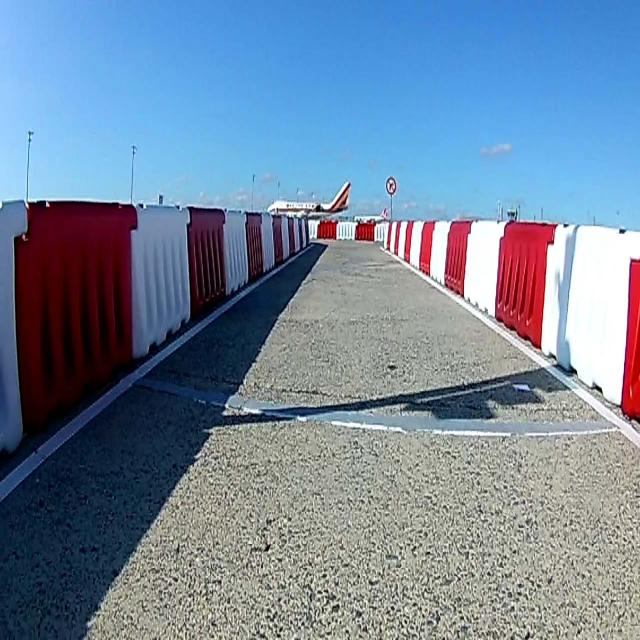sagadonulmez: (386, 177, 396, 195)
